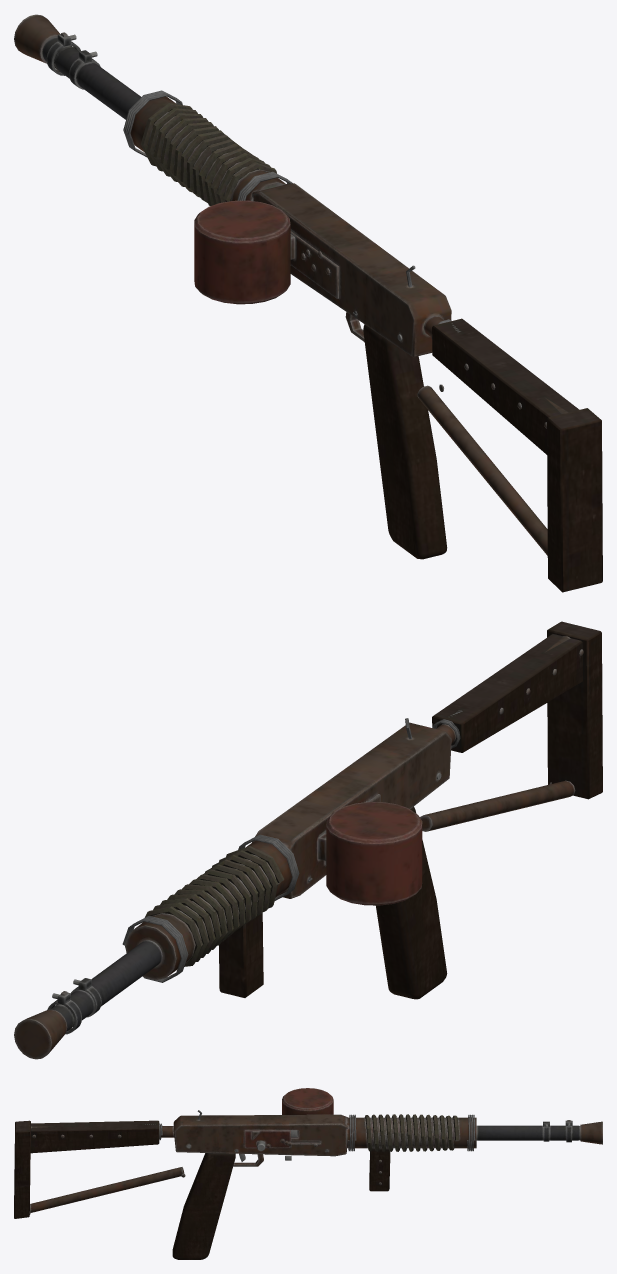
Rendered from raider_burst_rifle.glb.
3 views of the same model, one above another, from view 1: azimuth 30°, elevation 25°; view 2: azimuth 150°, elevation 25°; view 3: azimuth 270°, elevation 25° (orthographic). The views are drawn at different scales.
Visible parts, largest first — view 1: raider_burst_rifle; view 2: raider_burst_rifle; view 3: raider_burst_rifle.
Boxes of the visible parts, x1=… form: raider_burst_rifle: x1=14, y1=14, x2=602, y2=592; raider_burst_rifle: x1=14, y1=621, x2=602, y2=1059; raider_burst_rifle: x1=14, y1=1088, x2=602, y2=1259.
Bounding box in the file's own units: 0.161 × 0.2899 × 1.05.
1 material, 1 textured.
